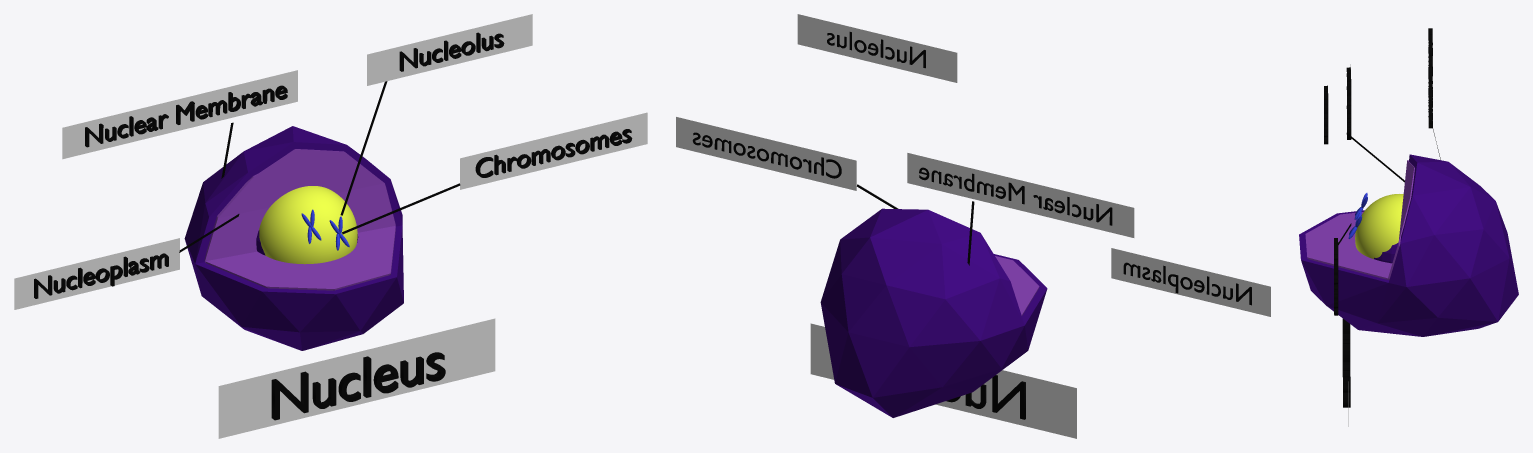
Rendered from nucleusparts1.gltf.
The picture shows the model from 3 angles, left to right: view 1: azimuth 30°, elevation 25°; view 2: azimuth 150°, elevation 25°; view 3: azimuth 270°, elevation 25°; orthographic projection. The views are drawn at different scales.
Parts seen in each view (by area): view 1: Icosphere.026, Icosphere.025, Plane, Plane.015, Object_2.005, Plane.019, Plane.008, Plane.017, Text, Text.007, Text.010, Text.009 (+1 smaller); view 2: Icosphere.026, Plane.015, Plane, Plane.019, Plane.008, Plane.017, Text.007, Text.010, Icosphere.025, Text.009, Text, Text.005; view 3: Icosphere.026, Icosphere.025, Object_2.005, Text, Text.007, Text.010, Text.009, Text.005.
Part boxes in pixels (box(x1,y1,x2,y2)): Icosphere.026: box(184, 126, 403, 350); Icosphere.025: box(204, 149, 395, 290); Plane: box(218, 318, 495, 438); Plane.015: box(62, 70, 297, 159); Object_2.005: box(259, 186, 357, 264); Plane.019: box(460, 112, 647, 189); Plane.008: box(367, 14, 532, 85); Plane.017: box(14, 238, 179, 309); Text: box(271, 352, 445, 420); Text.007: box(85, 85, 287, 147); Text.010: box(475, 129, 632, 177); Text.009: box(34, 253, 168, 298); Icosphere.026: box(820, 208, 1047, 417); Plane.015: box(907, 153, 1134, 237); Plane: box(810, 323, 1076, 438); Plane.019: box(676, 117, 856, 190); Plane.008: box(797, 14, 957, 82); Plane.017: box(1111, 248, 1270, 316); Text.007: box(919, 167, 1112, 225); Text.010: box(692, 132, 841, 178); Icosphere.025: box(995, 256, 1039, 315); Text.009: box(1123, 262, 1251, 305); Text: box(946, 375, 1025, 419); Text.005: box(827, 32, 925, 68); Icosphere.026: box(1299, 154, 1518, 336); Icosphere.025: box(1305, 160, 1414, 279); Object_2.005: box(1355, 194, 1403, 258); Text: box(1342, 318, 1350, 407); Text.007: box(1428, 28, 1432, 128); Text.010: box(1334, 238, 1338, 315); Text.009: box(1346, 67, 1351, 139); Text.005: box(1324, 85, 1328, 144).
Size of the model in its own units: 3.02 by 1.66 by 1.06.
